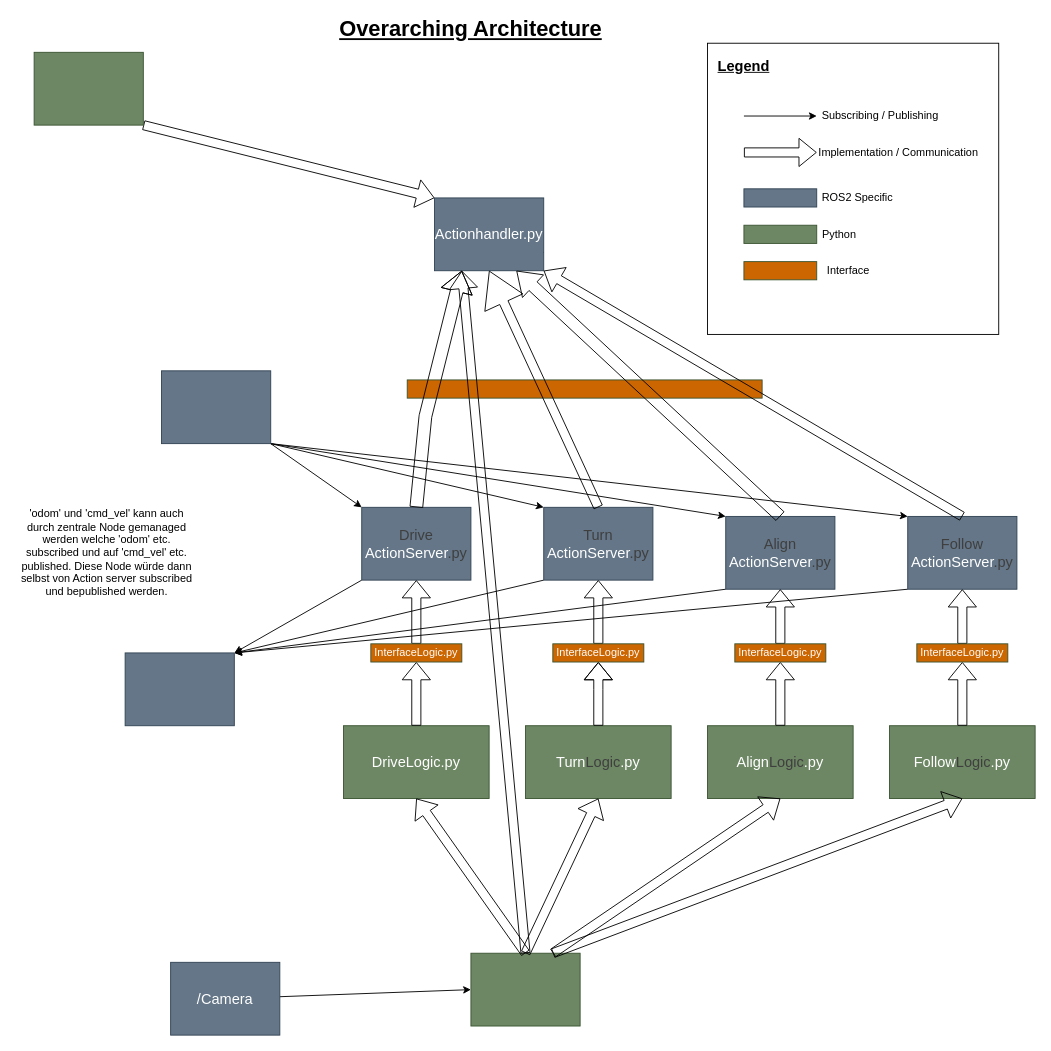
This 1051x1051 diagram has some shape labels left out. Here are the shapes that lost their labels. From the top down, the box of each, then its label:
(33, 51, 143, 125): Input from user
(161, 370, 271, 444): /odom
(406, 379, 762, 398): InterfaceActionServer
(124, 652, 234, 726): /cmd_vel
(470, 952, 580, 1026): MachineVison.py
